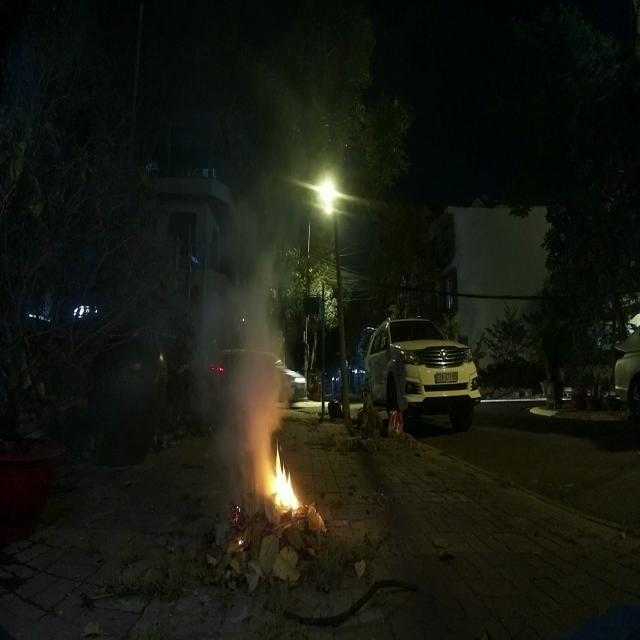Fire: (271, 440, 300, 519)
Smoke: (181, 156, 294, 491)
